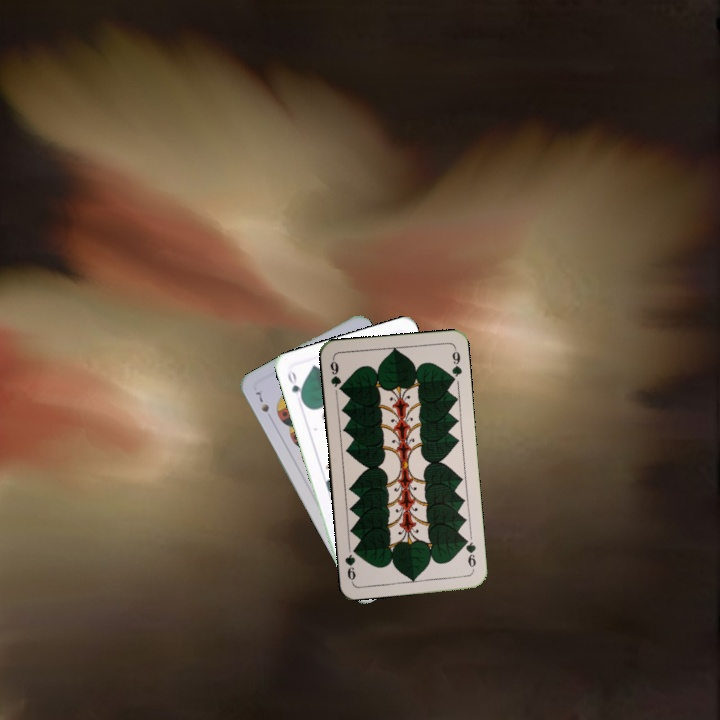G9: (326, 355, 346, 395), (460, 534, 478, 573)
GO: (283, 366, 306, 405)
S7: (251, 387, 272, 415)
